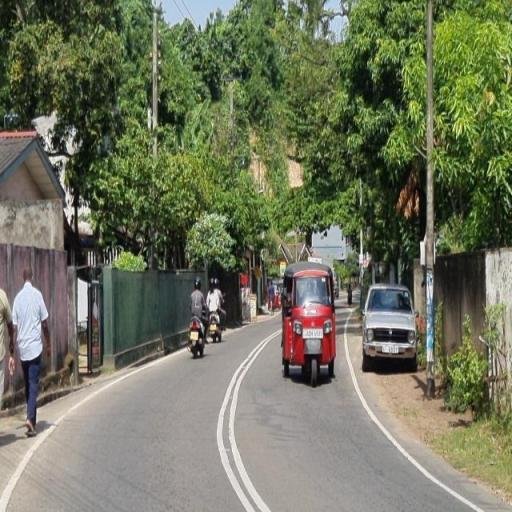double_white_line: (339, 319, 485, 512), (214, 328, 273, 511)
